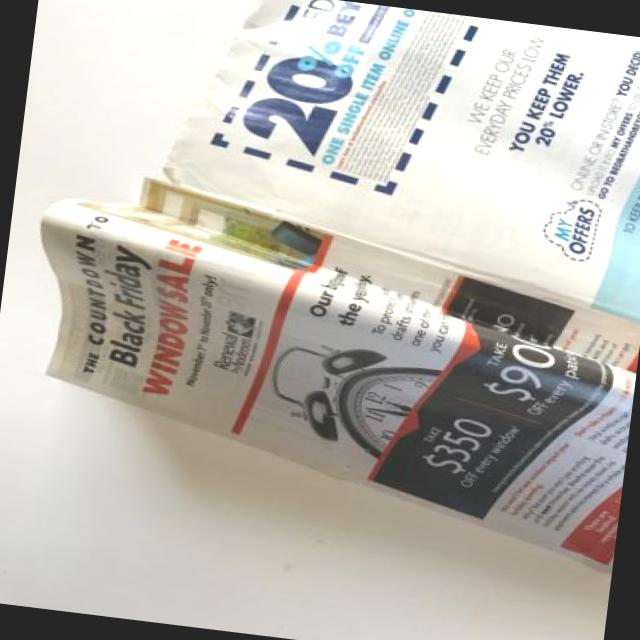paper: (26, 0, 640, 534)
